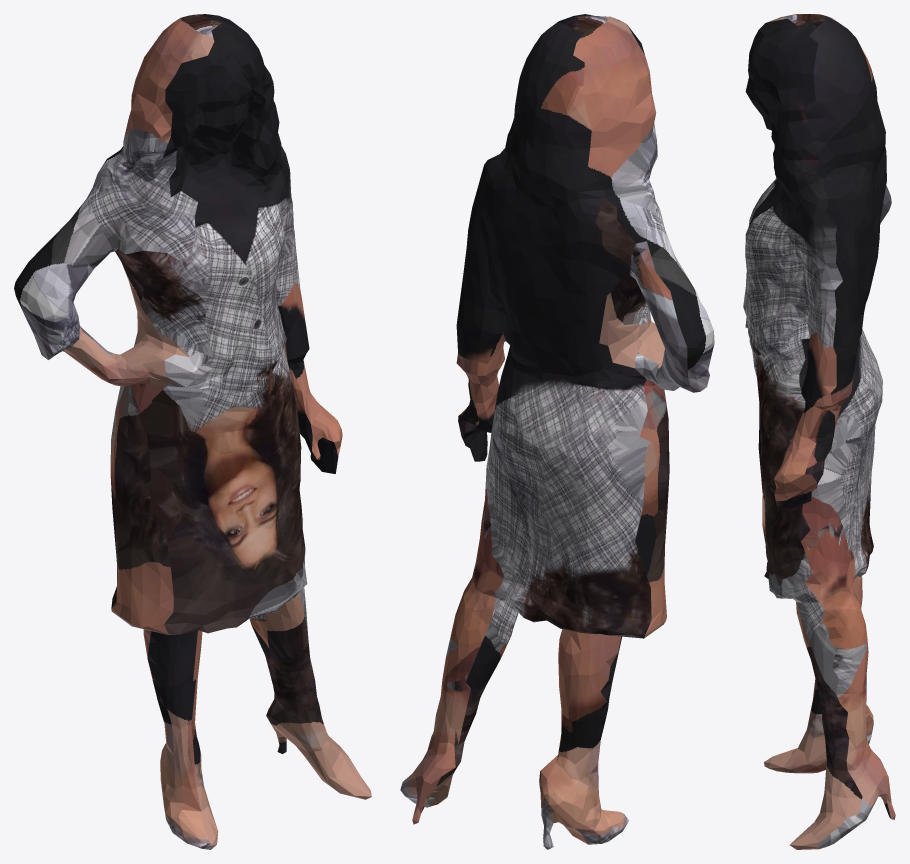
The model's file is girl_15.glb.
The picture shows the model from 3 angles, left to right: view 1: azimuth 30°, elevation 25°; view 2: azimuth 150°, elevation 25°; view 3: azimuth 270°, elevation 25°; orthographic projection. The views are drawn at different scales.
Parts seen in each view (by area): view 1: girl_15; view 2: girl_15; view 3: girl_15.
Boxes of the visible parts, x1,y1,x2,y2 form: girl_15: (14,14,371,849); girl_15: (400,14,714,849); girl_15: (743,14,895,849).
Size of the model in its own units: 0.6611 by 1.63 by 0.2966.
Materials: 1 (1 with a texture image).
